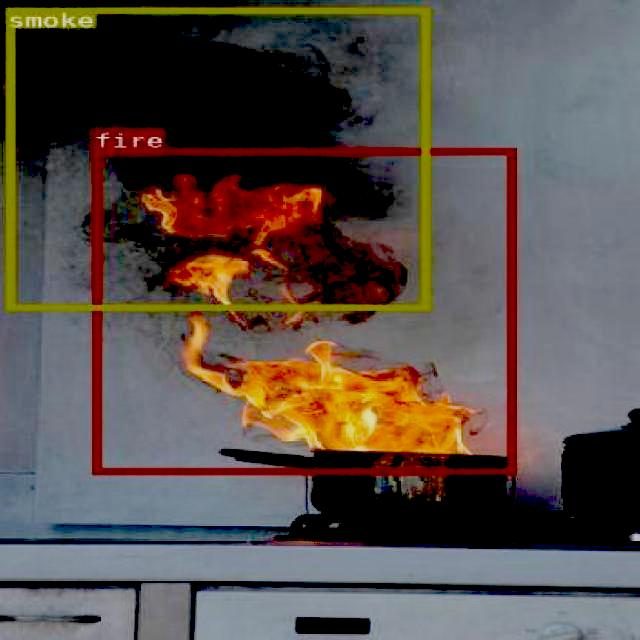fire: (91, 148, 514, 472)
smoke: (4, 6, 428, 309)
